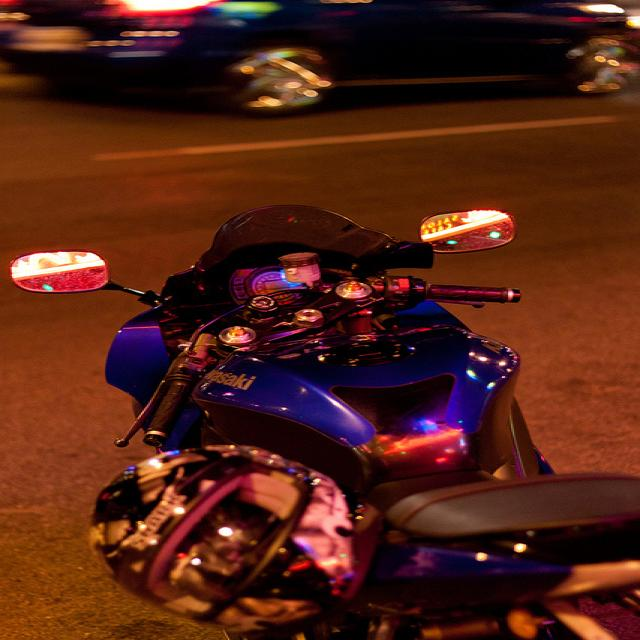motor: (6, 206, 640, 633)
